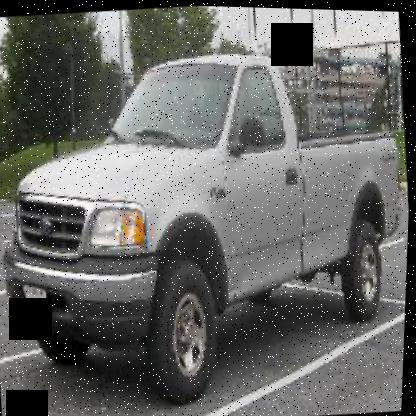not_emergency: (0, 28, 411, 391)
